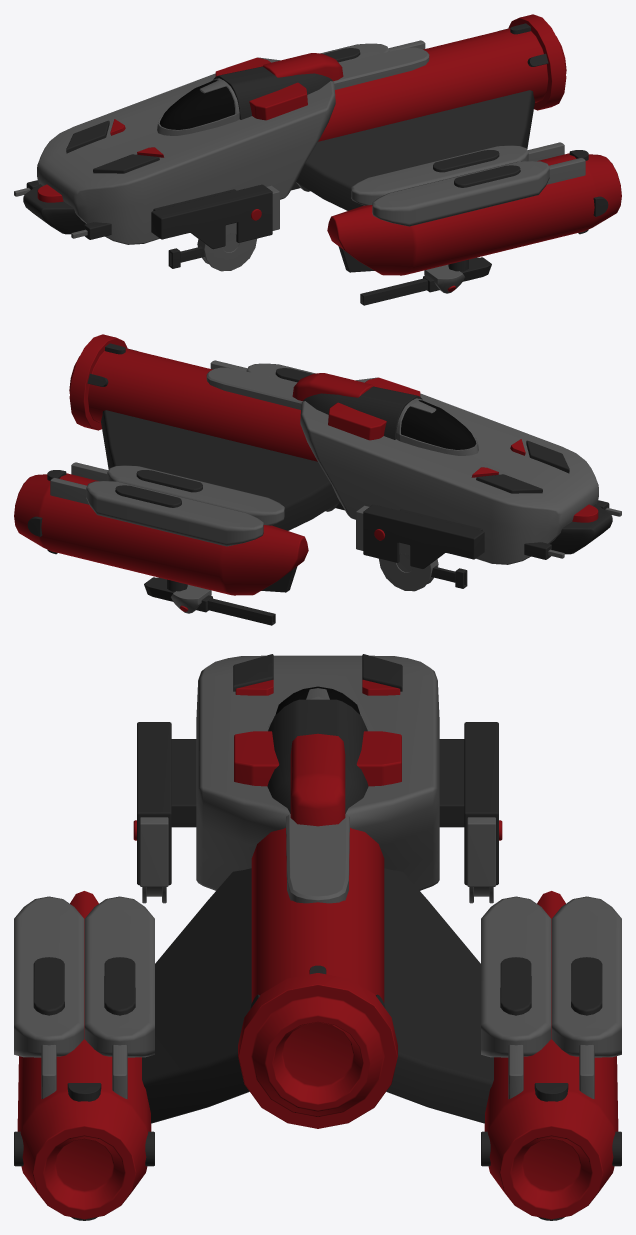
The model's file is Frigate_05.fbx.
3 renders of one model, top to bottom at view 1: azimuth 30°, elevation 25°; view 2: azimuth 150°, elevation 25°; view 3: azimuth 270°, elevation 25°, orthographic. The views are drawn at different scales.
Parts seen in each view (by area): view 1: Frigate_5; view 2: Frigate_5; view 3: Frigate_5.
Boxes of the visible parts, x1,y1,x2,y2 form: Frigate_5: (14,14,621,305); Frigate_5: (14,334,621,625); Frigate_5: (14,654,621,1220).
Bounding box in the file's own units: 3577 × 1296 × 2165.
